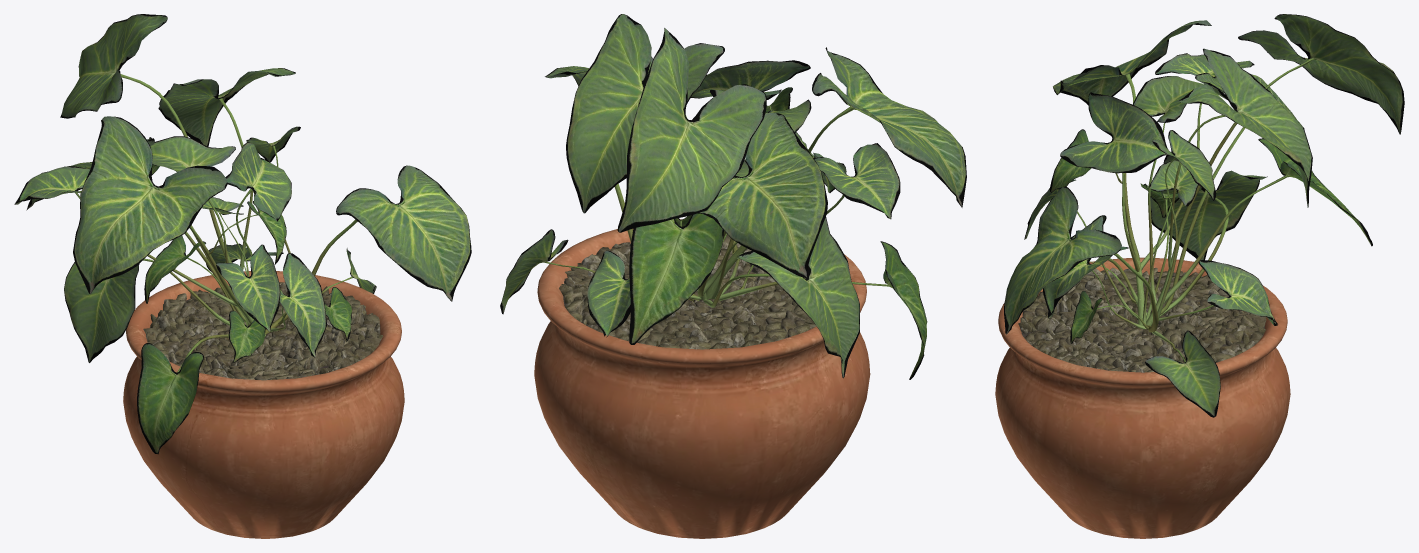
The model's file is potted_plant_02.glb.
The picture shows the model from 3 angles, left to right: view 1: azimuth 30°, elevation 25°; view 2: azimuth 150°, elevation 25°; view 3: azimuth 270°, elevation 25°; orthographic projection. The views are drawn at different scales.
Visible parts, largest first — view 1: potted_plant_02_leaves, potted_plant_02_pot; view 2: potted_plant_02_leaves, potted_plant_02_pot; view 3: potted_plant_02_pot, potted_plant_02_leaves.
Boxes of the visible parts, x1,y1,x2,y2 form: potted_plant_02_leaves: (14, 14, 471, 454); potted_plant_02_pot: (123, 271, 404, 538); potted_plant_02_leaves: (500, 14, 966, 379); potted_plant_02_pot: (534, 219, 870, 538); potted_plant_02_pot: (995, 257, 1290, 538); potted_plant_02_leaves: (1004, 14, 1404, 417).
Bounding box in the file's own units: 0.7012 × 0.8412 × 0.6574.
Materials: 2 (2 with a texture image).
